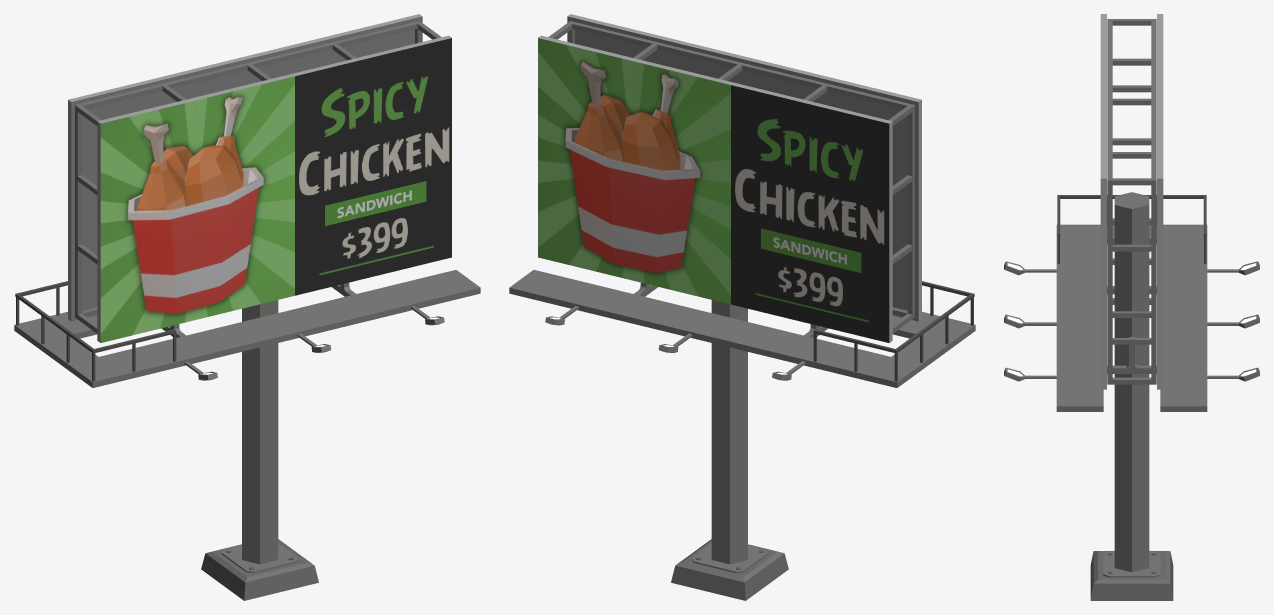
File: SM_Props_Billboard_01.fbx
The picture shows the model from 3 angles, left to right: view 1: azimuth 30°, elevation 25°; view 2: azimuth 150°, elevation 25°; view 3: azimuth 270°, elevation 25°; orthographic projection. The views are drawn at different scales.
Visible parts, largest first — view 1: SM_Props_Billboard_01; view 2: SM_Props_Billboard_01; view 3: SM_Props_Billboard_01.
Part boxes in pixels (x1,y1,x2,y2): SM_Props_Billboard_01: (14,14,480,600); SM_Props_Billboard_01: (509,14,975,600); SM_Props_Billboard_01: (1004,14,1259,600).
Size of the model in its own units: 684 by 855 by 407.
